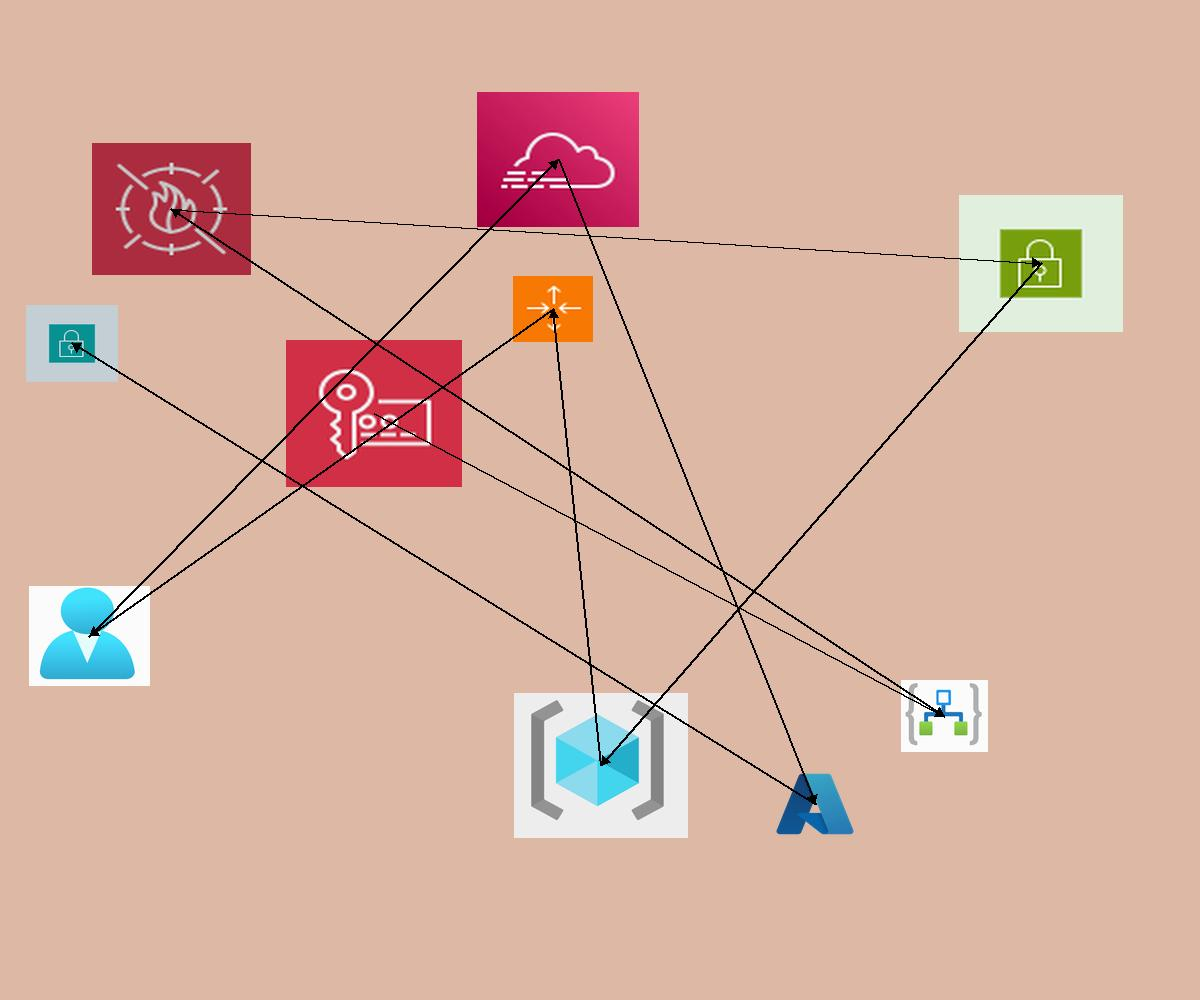AWS-CloudTrail: (477, 92, 639, 227)
AWS-Key-Management-Service: (286, 340, 462, 487)
AWS-Private-subnet: (26, 305, 118, 382)
AWS-Public-subnet: (959, 195, 1123, 332)
AWS-Scaling-group: (513, 276, 593, 342)
AWS-WAF: (92, 143, 251, 275)
Azure_integration-204-Logic-Apps: (901, 680, 988, 752)
Azure_resource_group: (514, 693, 688, 838)
Azure_services: (773, 769, 857, 839)
Azure_users: (29, 586, 150, 686)
